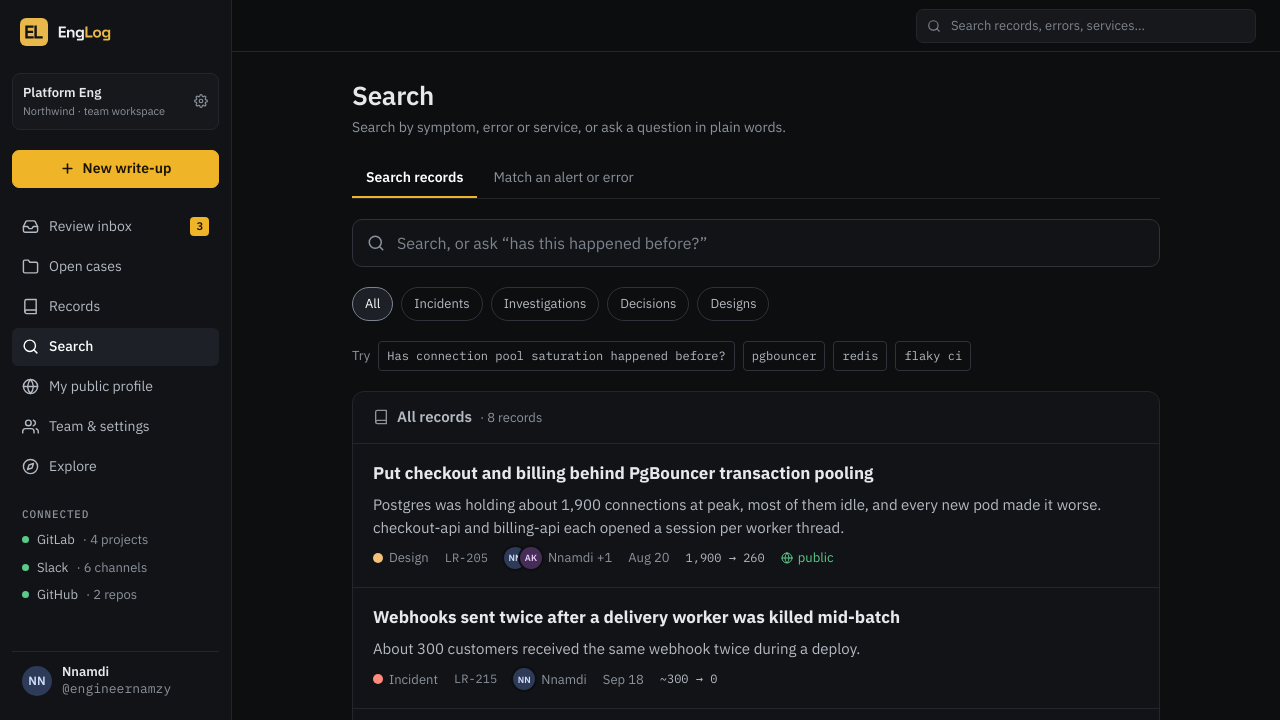
EngLog app › searches records from the search screen
Step 1. Type "eviction" into the search field named "Search records" → (770, 243), box [395,230,1145,256]
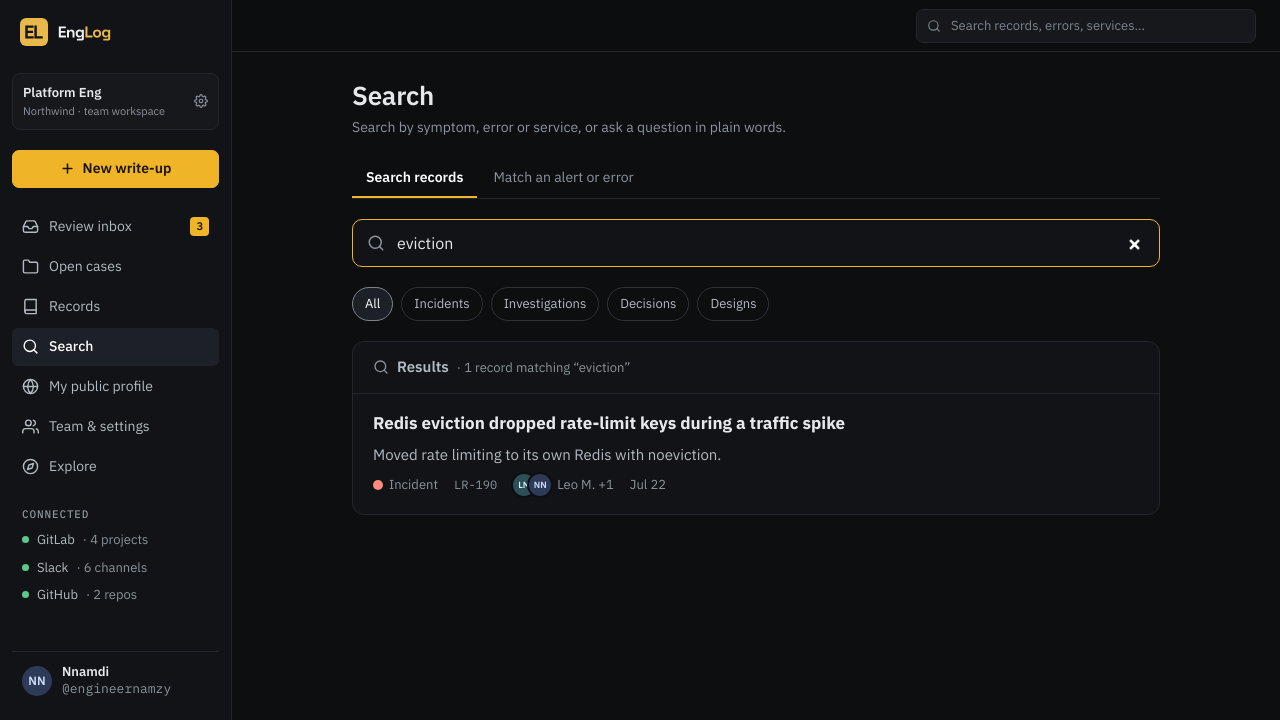
Expected: the link "Redis eviction dropped rate-limit keys during a traffic spike" is shown, [373,412,845,434]
Now the text "· 1 record matching “eviction”" is shown, box [457,358,630,377]
